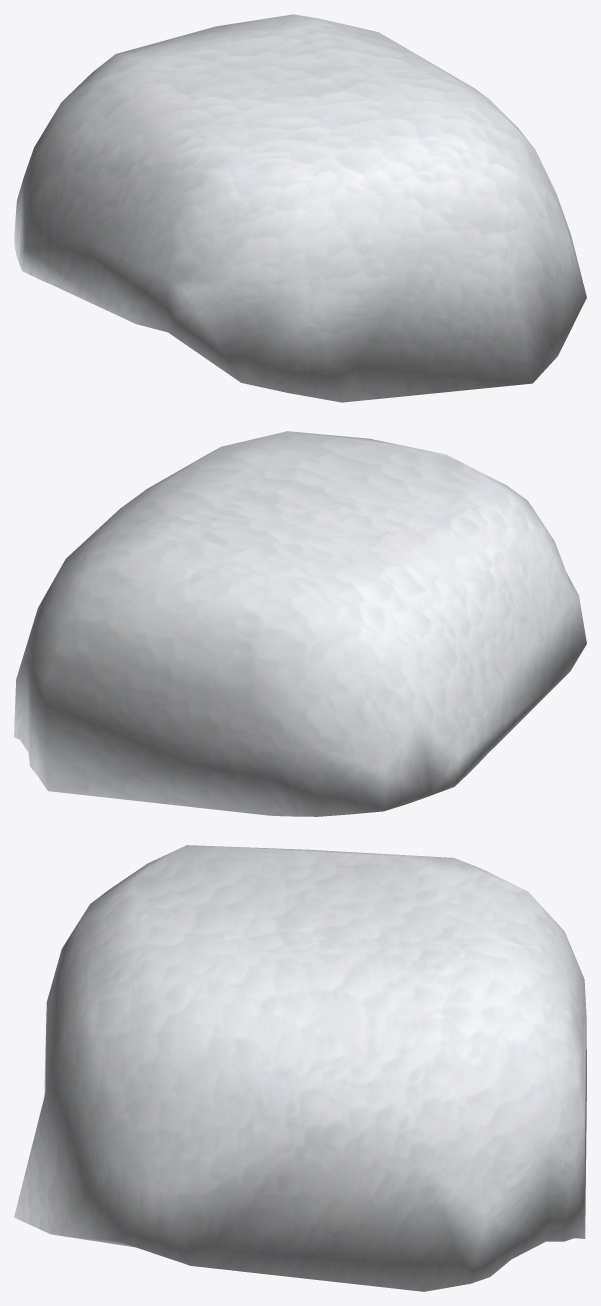
Rendered from snow01.fbx.
The picture shows the model from 3 angles, top to bottom: view 1: azimuth 30°, elevation 25°; view 2: azimuth 150°, elevation 25°; view 3: azimuth 270°, elevation 25°; orthographic projection. The views are drawn at different scales.
Visible parts, largest first — view 1: snow01; view 2: snow01; view 3: snow01.
Boxes of the visible parts, left/top/right/bottom form: snow01: left=14, top=14, right=586, bottom=402; snow01: left=14, top=431, right=586, bottom=816; snow01: left=14, top=845, right=586, bottom=1291.
Bounding box in the file's own units: 217 × 110 × 223.
